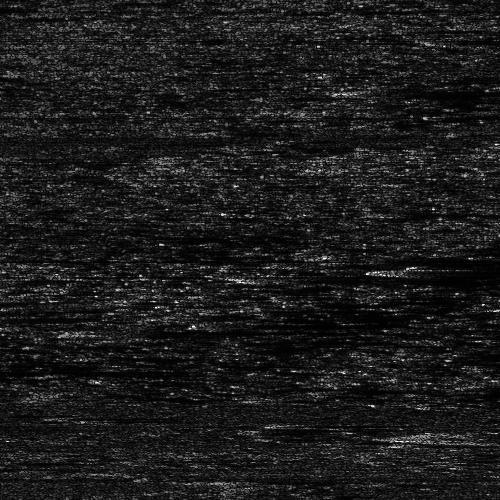object: (372, 427, 500, 442), (35, 325, 150, 334), (349, 263, 422, 274), (397, 33, 470, 44), (332, 88, 405, 93)
shadow: (386, 263, 500, 274), (0, 365, 143, 372), (93, 325, 202, 334), (444, 427, 500, 442), (434, 33, 500, 44), (369, 88, 498, 93)
